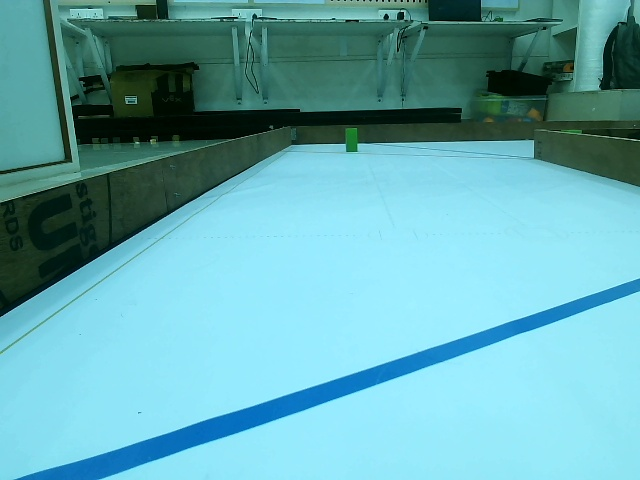green: (345, 127, 359, 153)
